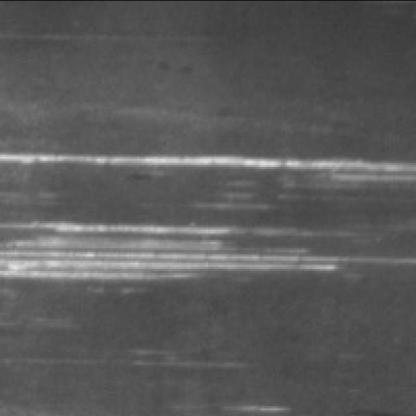scratches: (0, 217, 343, 292), (0, 150, 410, 192)
